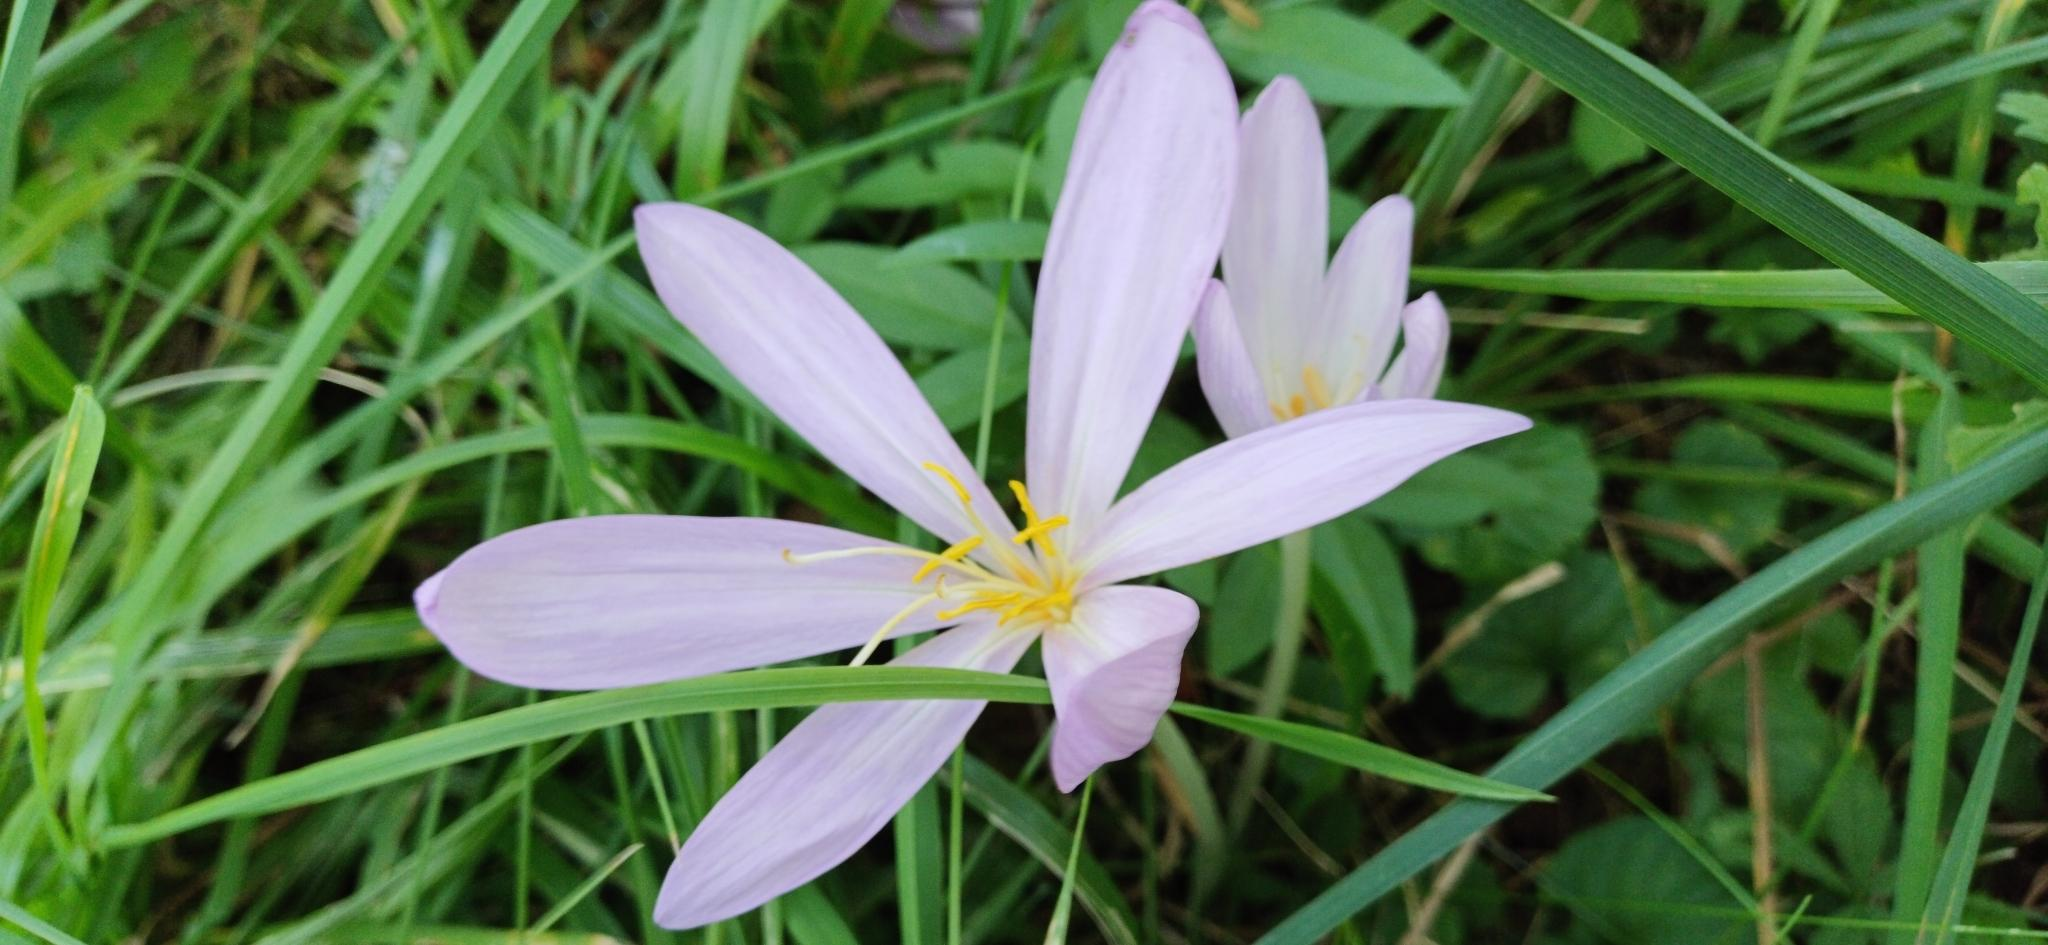Colchicum autumnale L: (402, 0, 1567, 945)
